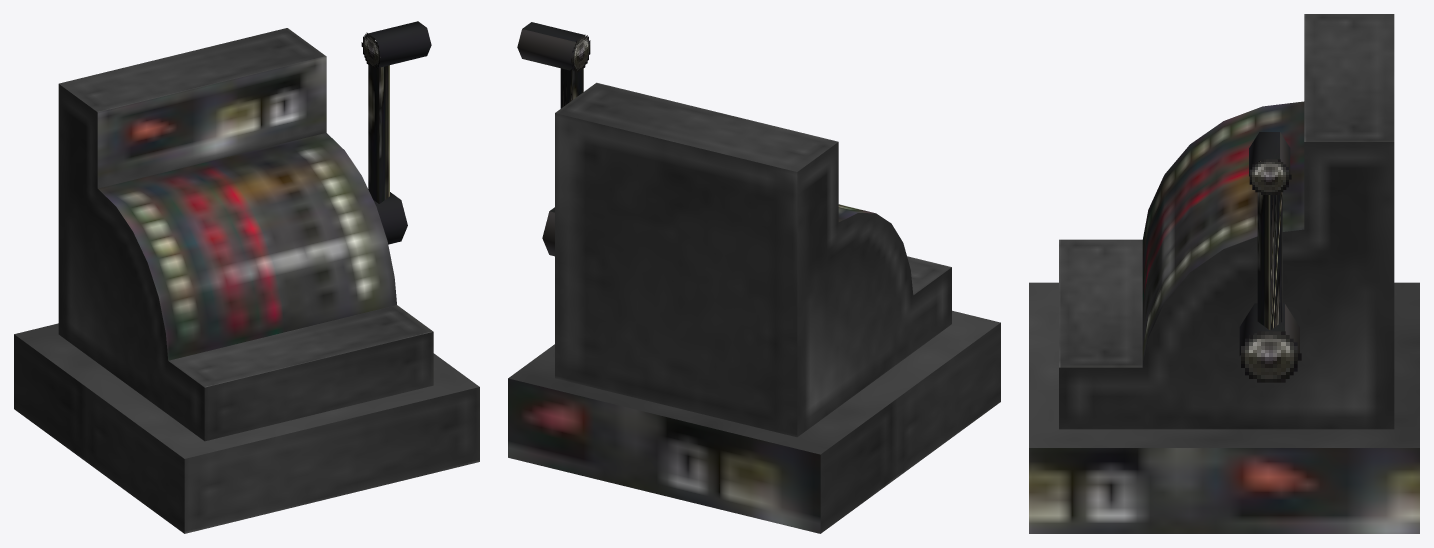
File: cash_register.glb
3 renders of one model, left to right at view 1: azimuth 30°, elevation 25°; view 2: azimuth 150°, elevation 25°; view 3: azimuth 270°, elevation 25°, orthographic. The views are drawn at different scales.
Visible parts, largest first — view 1: RegisterMain, RegisterBase, Stem, Round1, Round2; view 2: RegisterMain, RegisterBase, Round1, Stem; view 3: RegisterMain, RegisterBase, Stem, End2a, End1a, Round2, Round1.
Part boxes in pixels (x1,y1,x2,y2): RegisterMain: [58, 28, 433, 441]; RegisterBase: [14, 323, 479, 533]; Stem: [368, 57, 389, 203]; Round1: [368, 21, 431, 67]; Round2: [373, 192, 407, 244]; RegisterMain: [555, 82, 951, 437]; RegisterBase: [508, 310, 1000, 533]; Round1: [517, 22, 583, 71]; Stem: [560, 68, 583, 108]; RegisterMain: [1059, 14, 1394, 429]; RegisterBase: [1029, 282, 1419, 533]; Stem: [1257, 160, 1282, 330]; End2a: [1241, 331, 1301, 382]; End1a: [1249, 159, 1291, 194]; Round2: [1239, 303, 1299, 355]; Round1: [1249, 132, 1290, 176].
Bounding box in the file's own units: 10.26 × 10.07 × 8.83.
5 materials, 5 textured.
